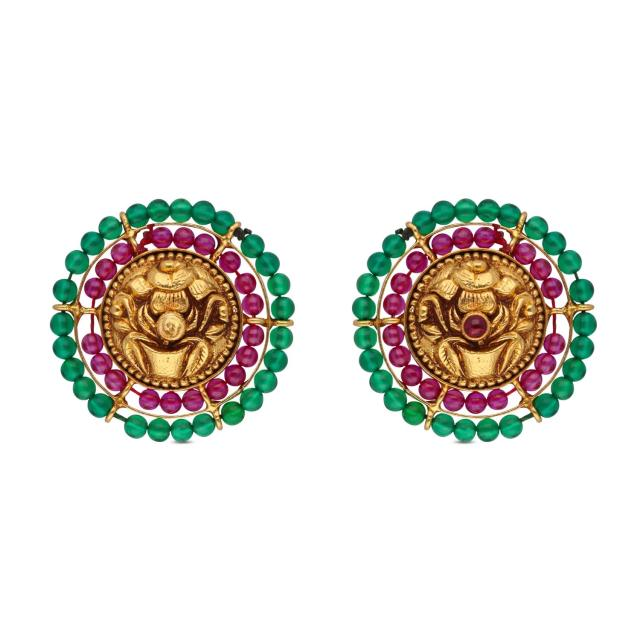missing gem: (158, 314, 184, 339)
